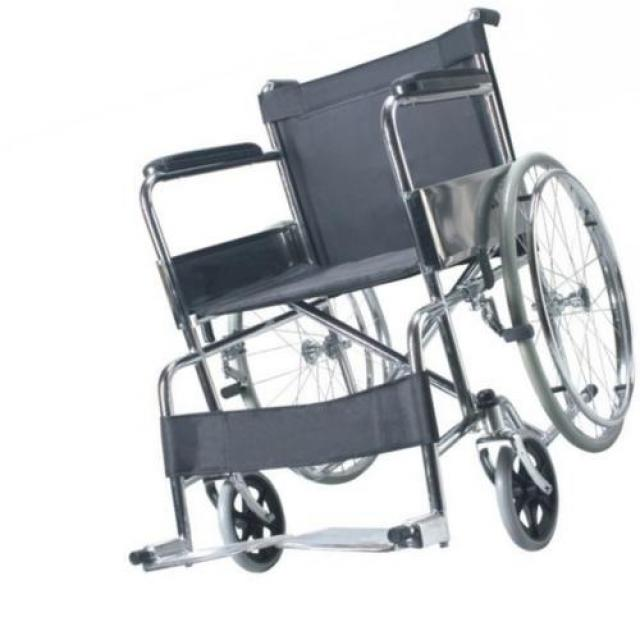wheelchair: (110, 2, 640, 582)
